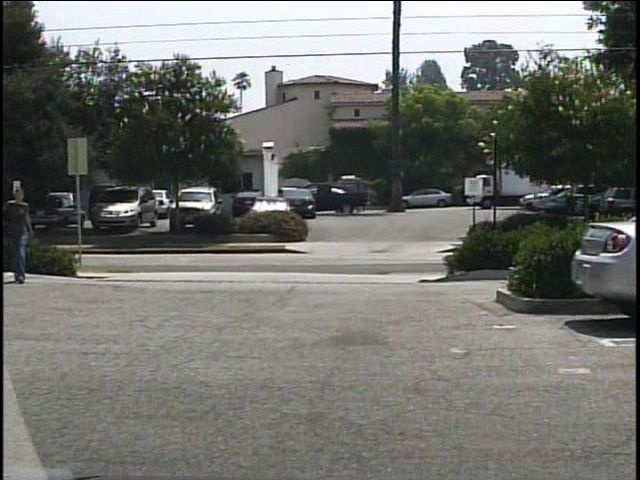person: (8, 185, 43, 283)
